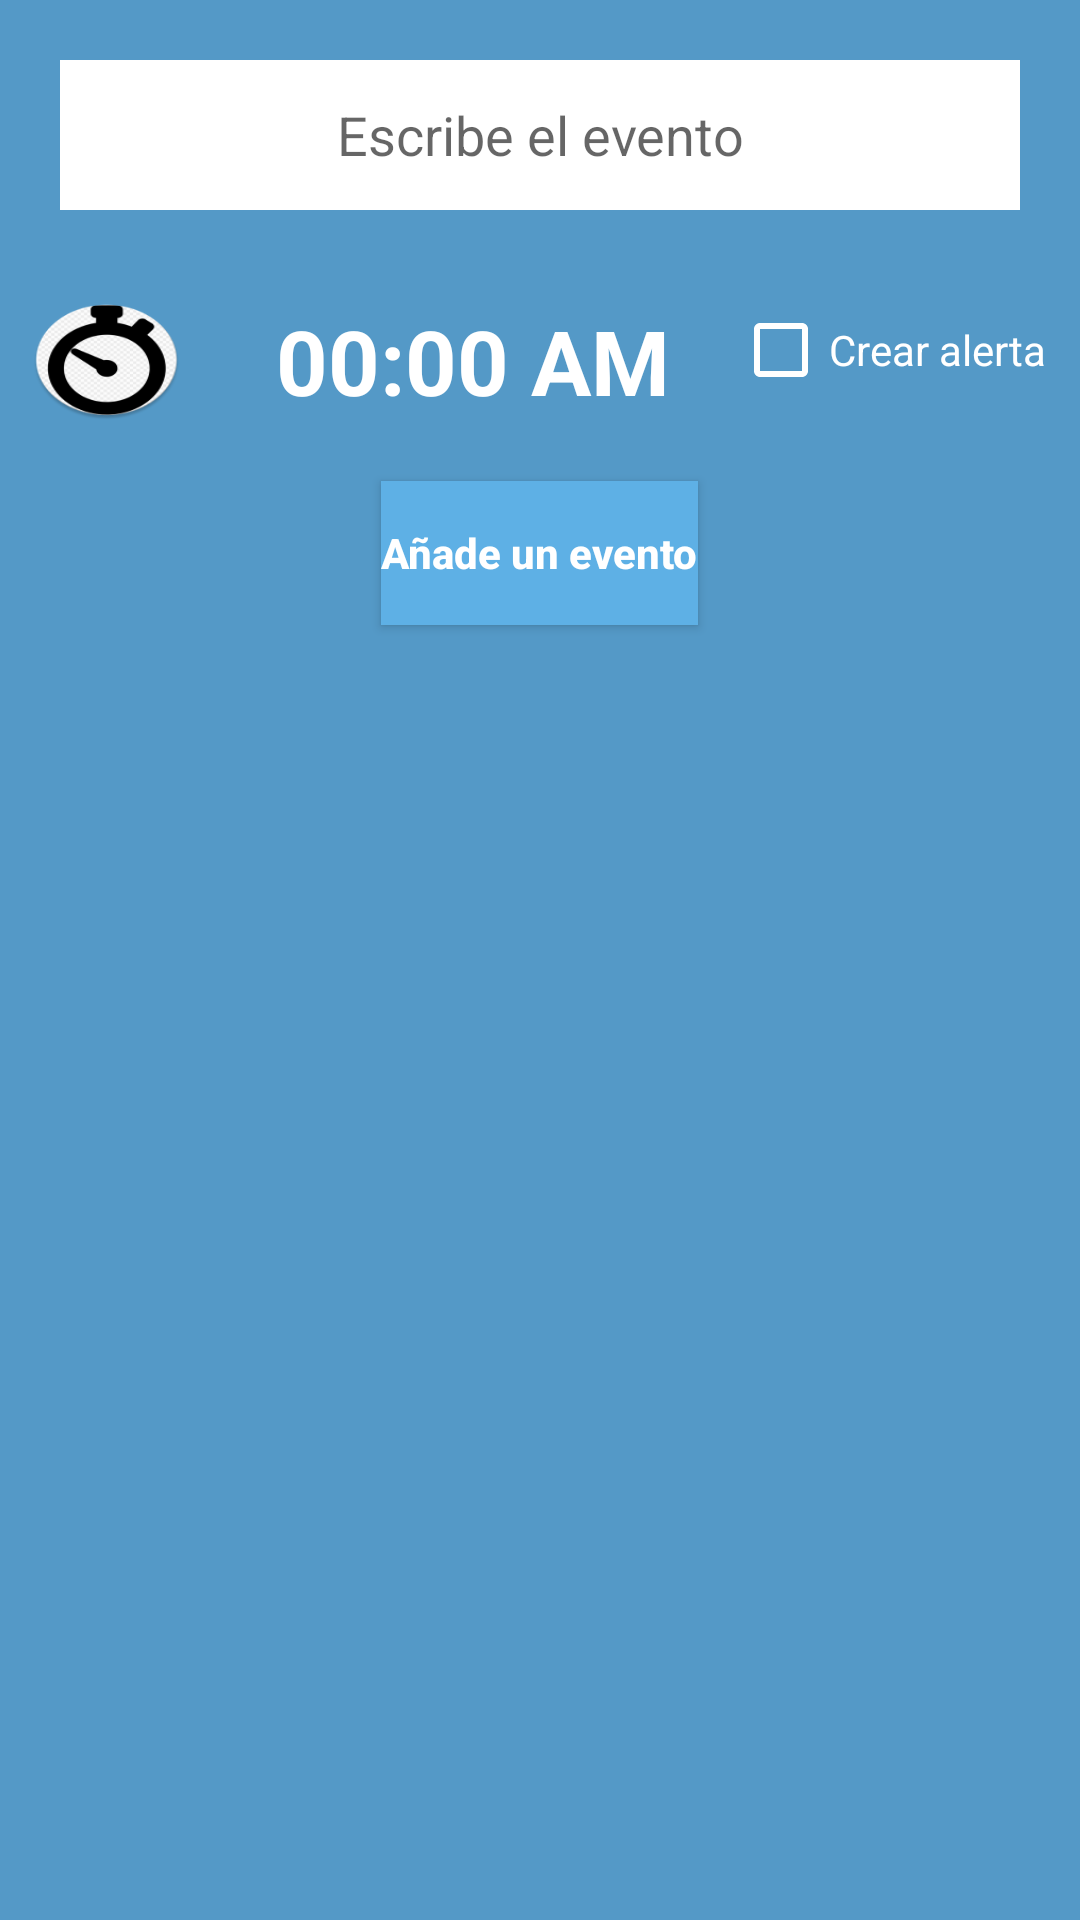

Named icons in this screenshot (1080 x 1920) and their centers, [x,y]:
time: [106,361]
